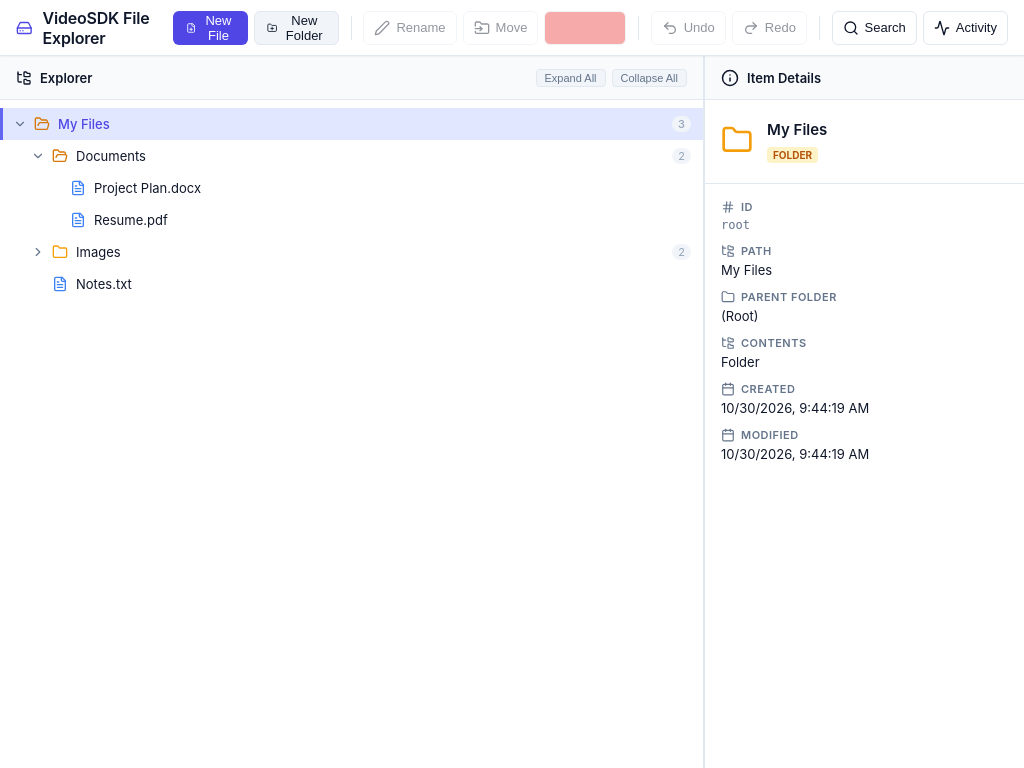
Test: React Component Tests › Full Application Integration Tests (App.jsx) › searches hierarchy and auto-expands ancestors on selection
The image size is (1024, 768).
Note: Open Search panel
Click the button "Search".
click(874, 28)  # box top-left (832, 10), bottom-right (917, 44)
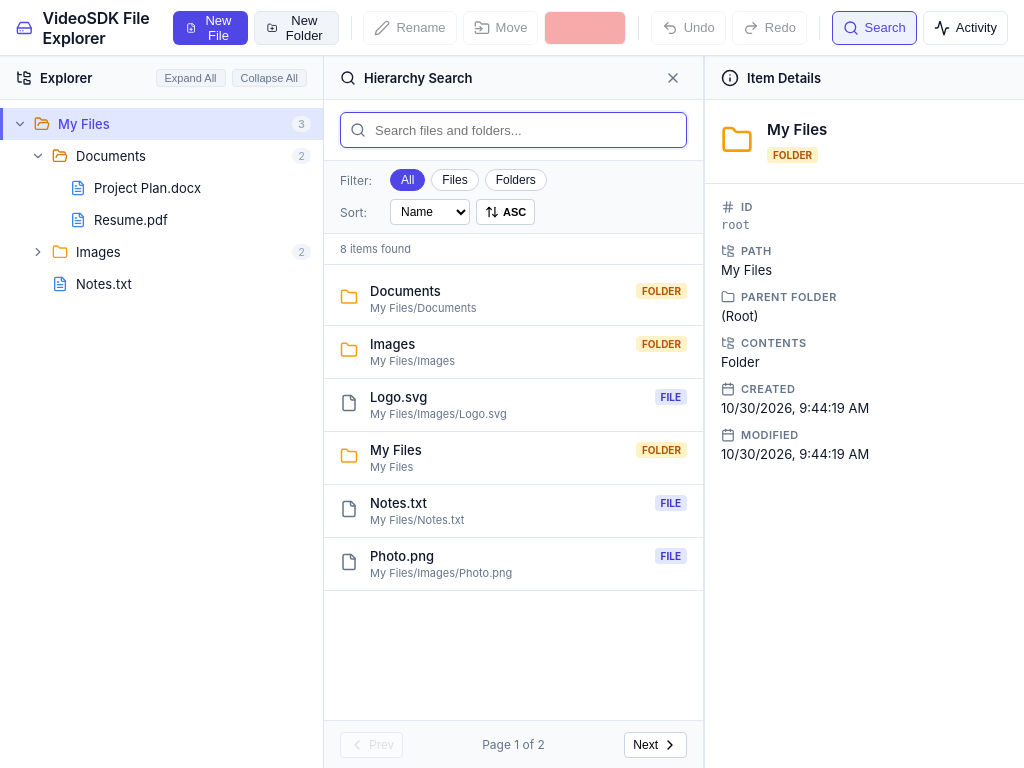
Note: Search input appears
Type "Resume" into the field with placeholder "Search files and folders...".
click(514, 130); type("Resume")  # box top-left (340, 112), bottom-right (687, 148)
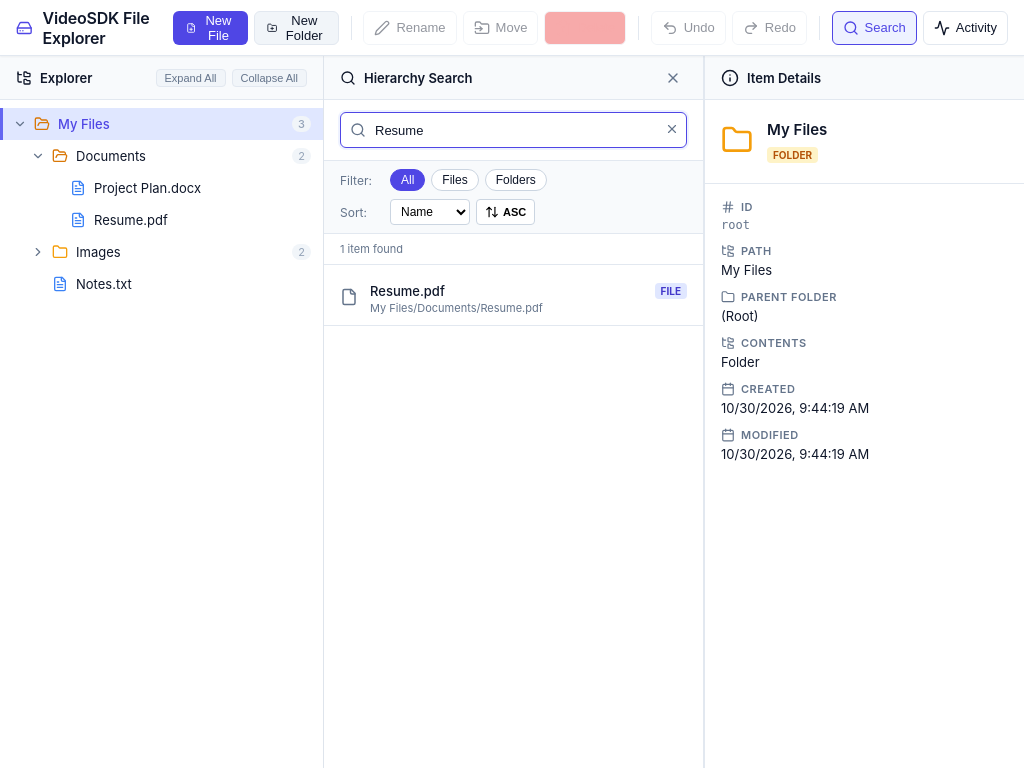
Result: the text "Resume.pdf" below "item found" is shown
Note: Click search result item
Click the text "Resume.pdf" below "item found".
click(407, 291)  # box top-left (370, 283), bottom-right (445, 299)
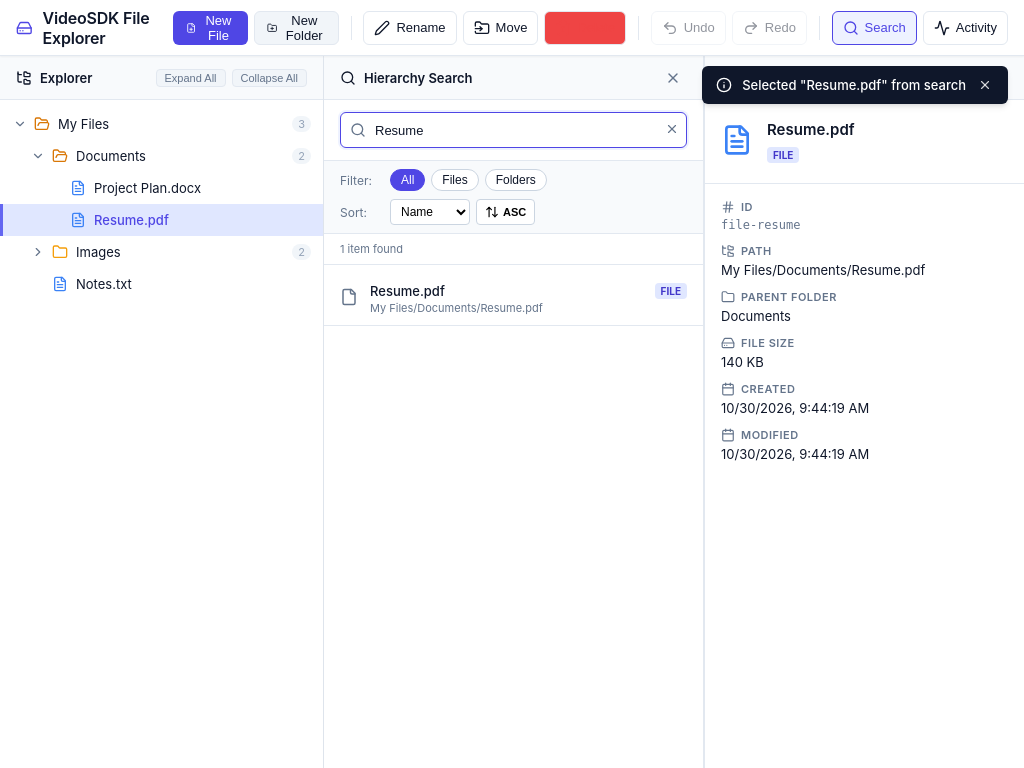
Result: the heading "Resume.pdf" is shown at top-left (767, 120), bottom-right (855, 139)
